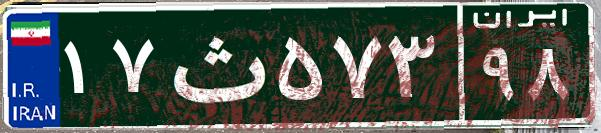1: (57, 26, 110, 107)
3: (385, 28, 445, 110)
5: (273, 28, 330, 110)
7: (330, 28, 385, 110), (110, 28, 158, 105)
8: (525, 38, 570, 115)
9: (475, 38, 525, 113)
ث: (158, 15, 273, 115)
